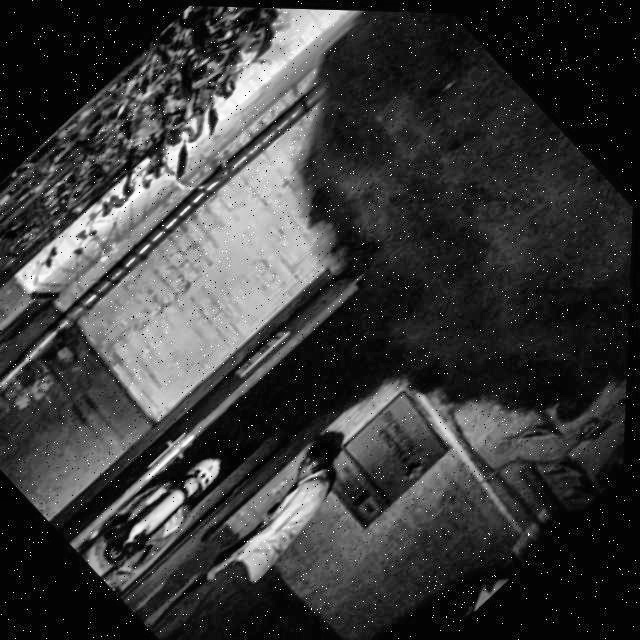Smoke: (205, 5, 640, 499)
